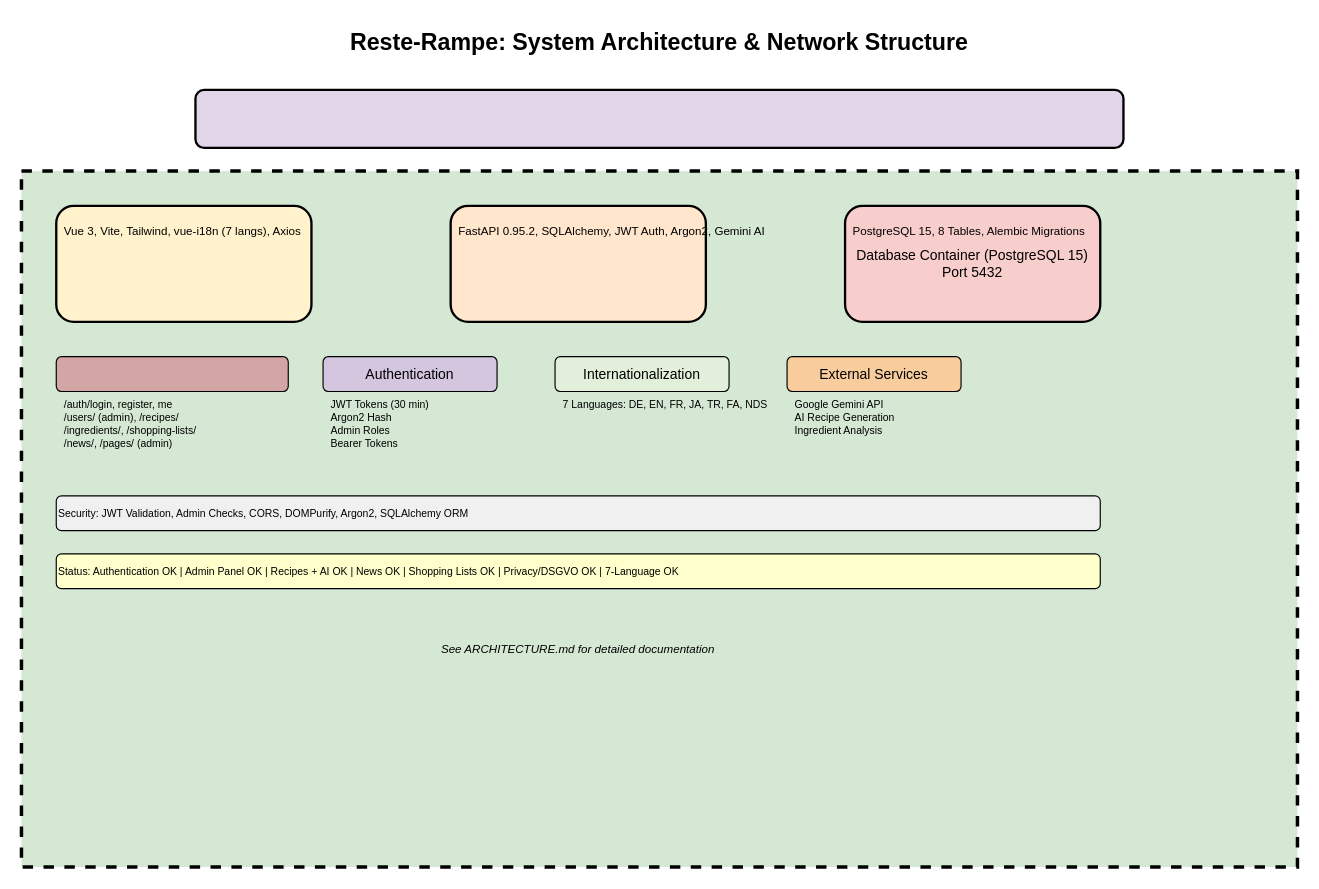
The diagram is 1319 pixels wide and 889 high, and some of its shapes have lost their labels. Here are the shapes that lost their labels. From the top down, the box of each, then its label:
(194, 88, 1124, 148): External Internet (HTTP/HTTPS) Port 5173
(55, 204, 312, 322): Frontend Container (Nginx + Vue3) Port 5173
(449, 204, 706, 322): Backend Container (FastAPI) Port 8000
(55, 356, 288, 392): API Routes
